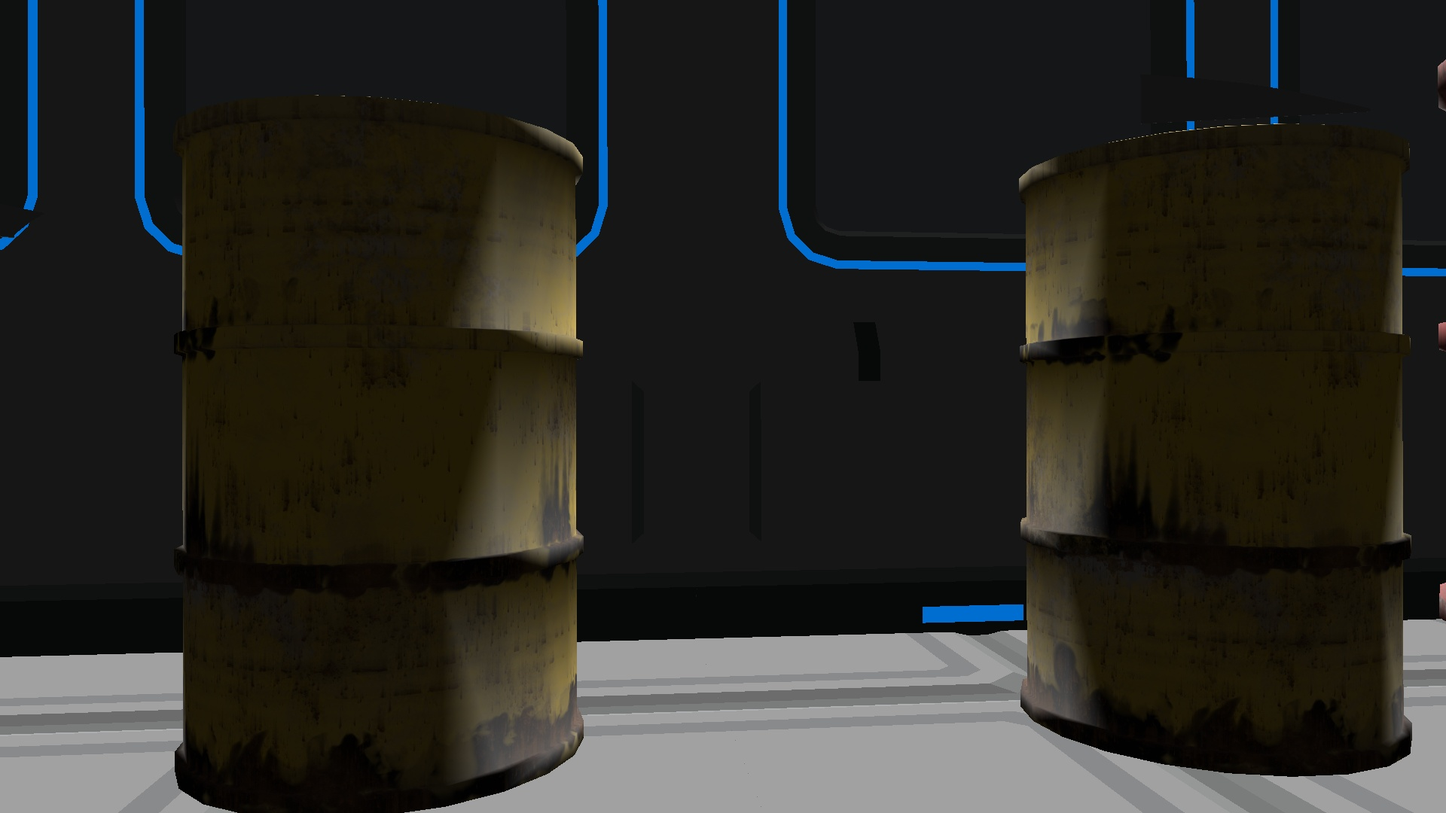toxic barrel: (171, 94, 586, 813), (1019, 124, 1413, 776)
